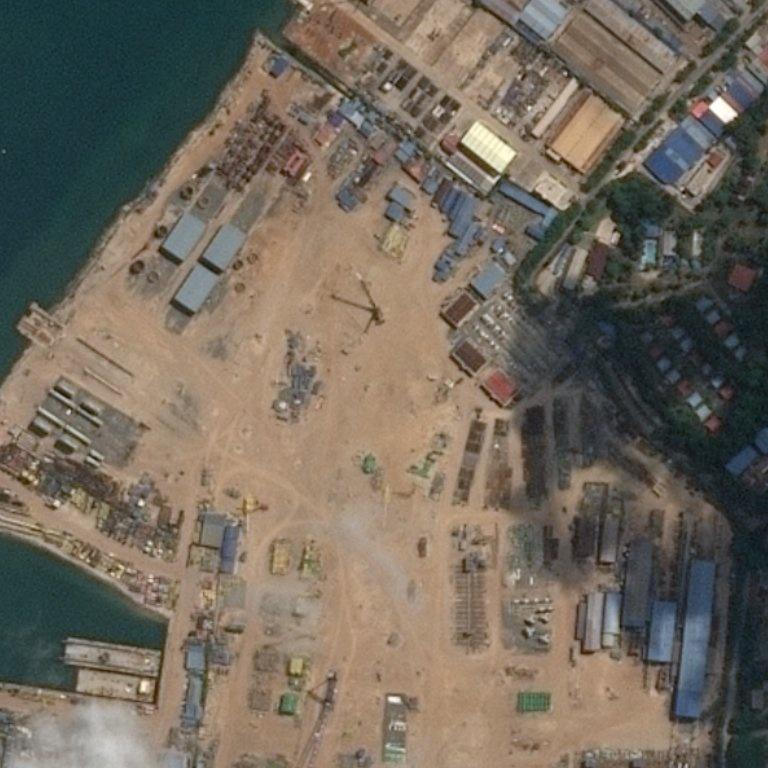ship: (15, 630, 53, 684), (157, 649, 162, 653), (2, 674, 5, 677), (65, 647, 67, 651)
